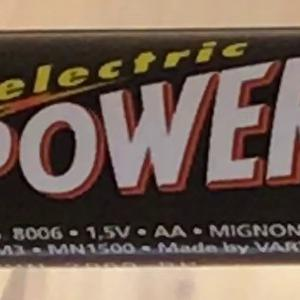1,5V: (77, 217, 139, 248)
